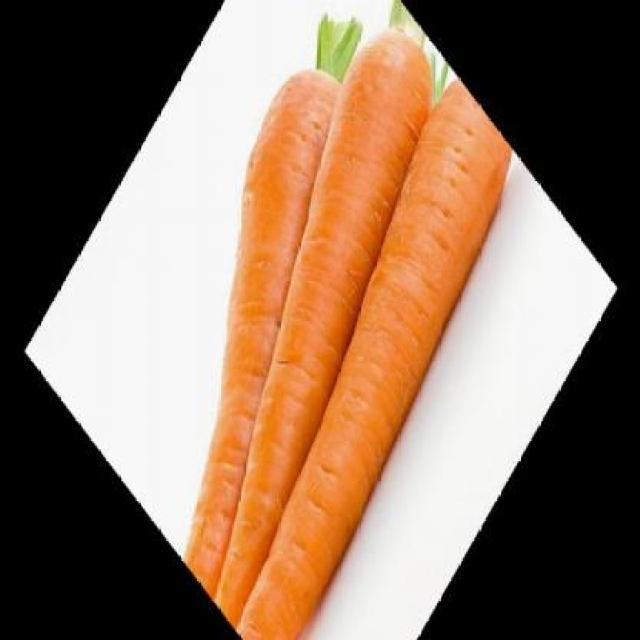carrot: (115, 0, 507, 634), (179, 73, 550, 639), (84, 39, 444, 610)
